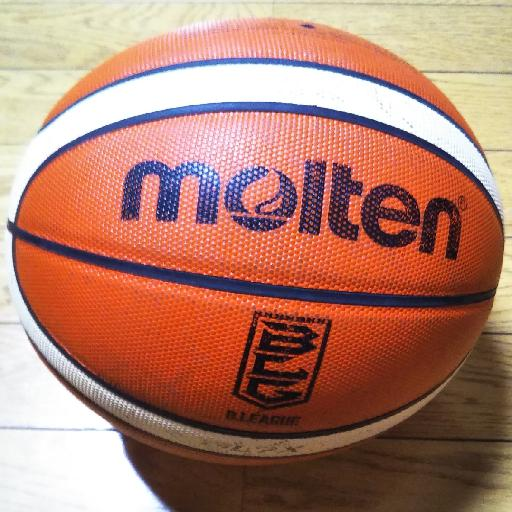ball: (7, 15, 501, 468)
